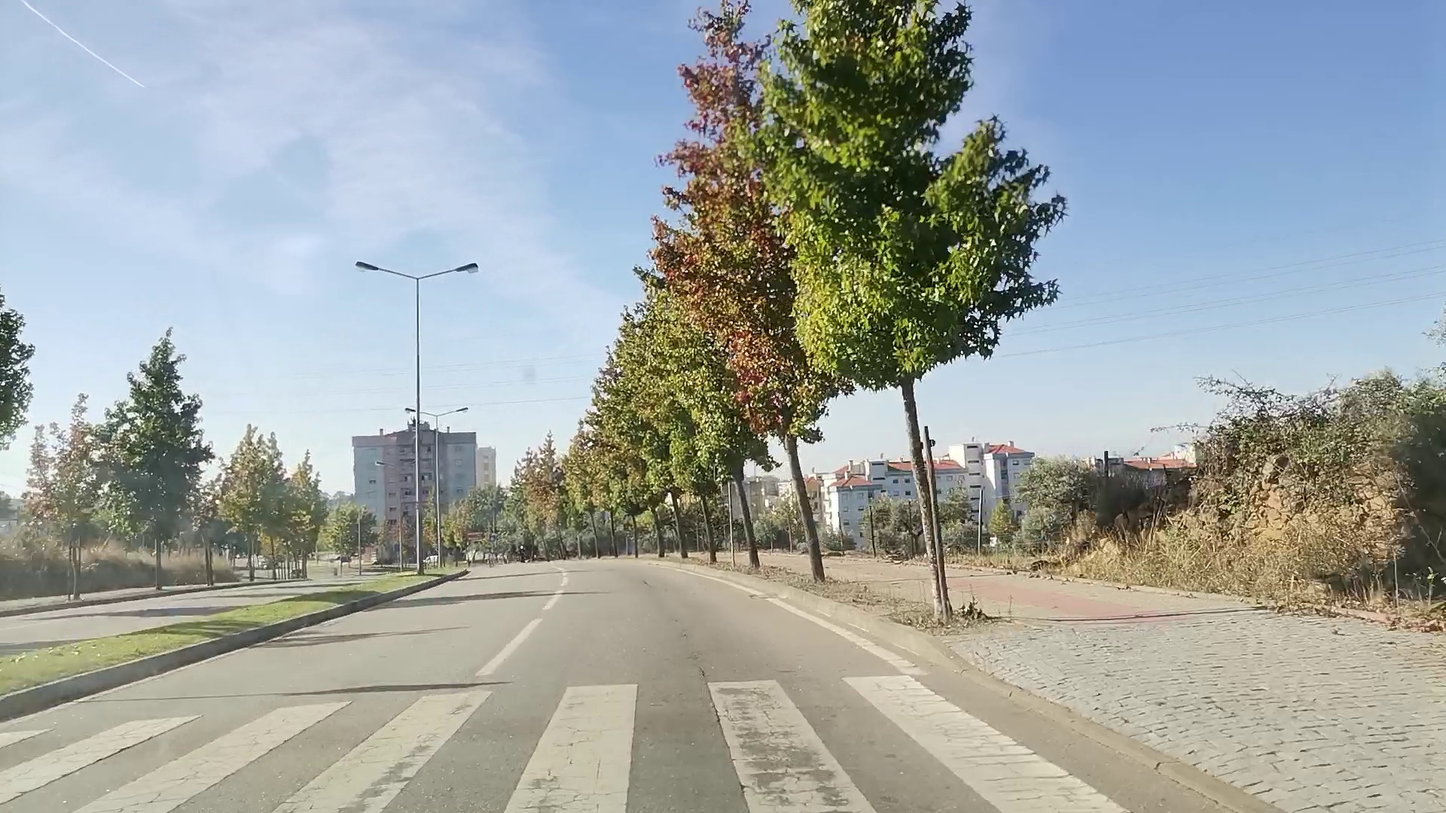Stairs: (0, 667, 1160, 813)
